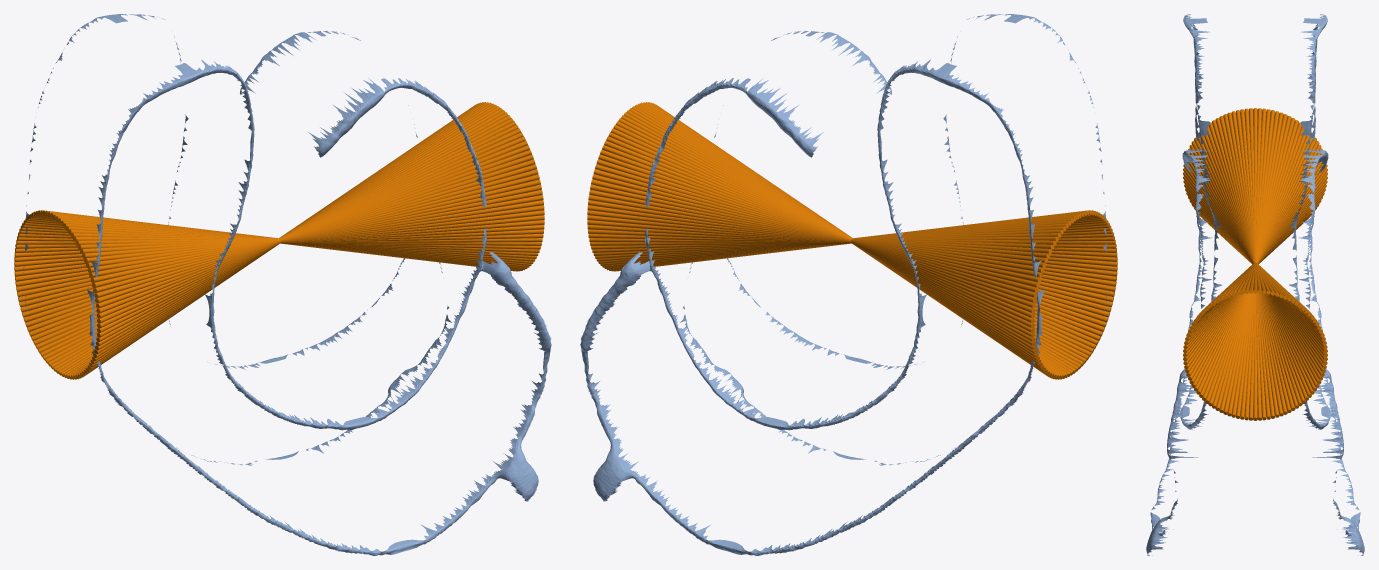
Rendered from A20024951_5995-37-531-2349_DigitalTwin.glb.
3 renders of one model, left to right at view 1: azimuth 30°, elevation 25°; view 2: azimuth 150°, elevation 25°; view 3: azimuth 270°, elevation 25°, orthographic. The views are drawn at different scales.
Parts seen in each view (by area): view 1: world; view 2: world; view 3: world.
Part boxes in pixels (<box>): world: <box>14,14,551,555</box>; world: <box>580,14,1117,555</box>; world: <box>1146,14,1364,555</box>.
Size of the model in its own units: 401 by 437 by 203.
